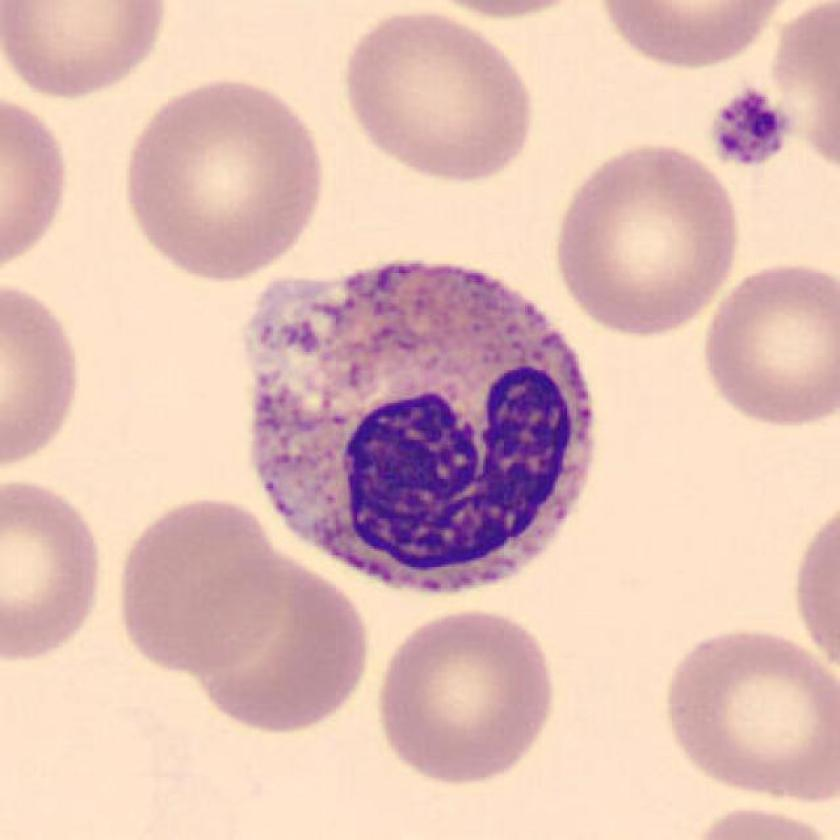neutrophil: (244, 262, 592, 597)
